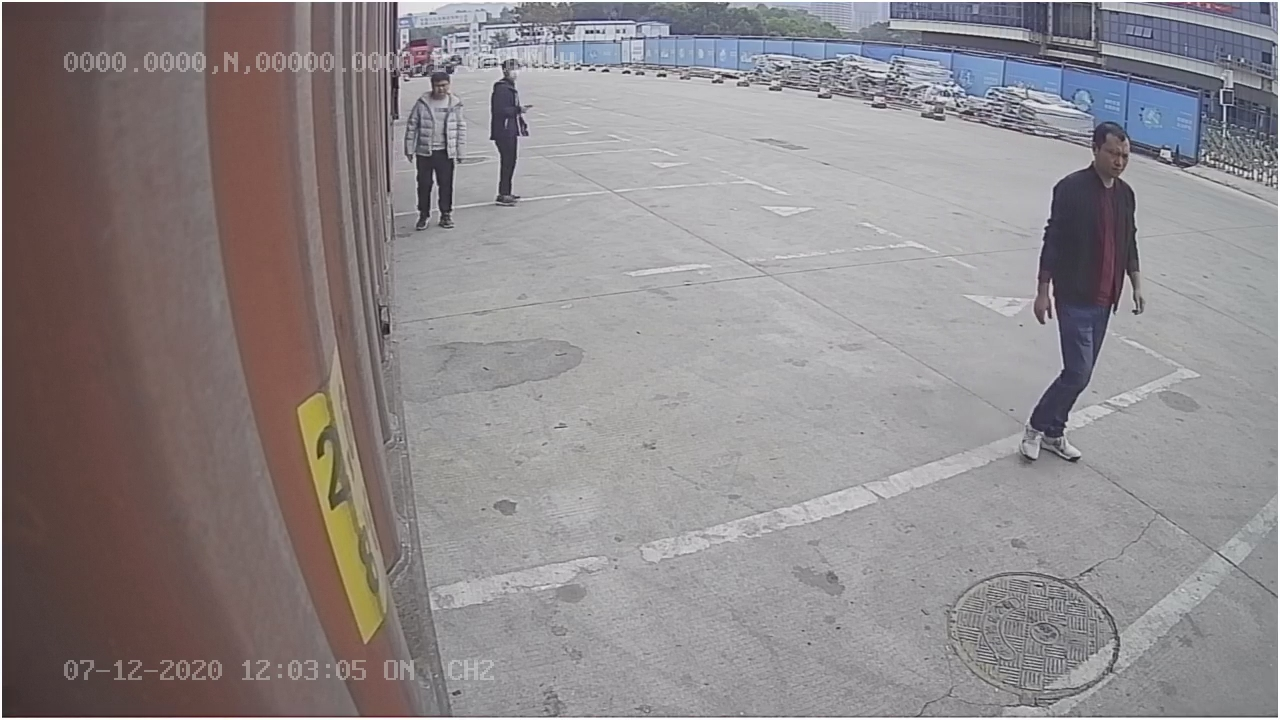person: (1016, 108, 1154, 470)
